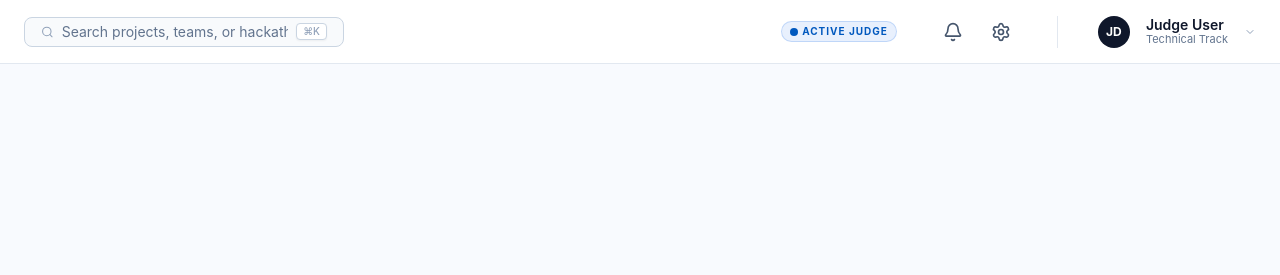
opens notification dropdown on click
Click the button named "Notifications" at (953, 32), box x1=937 y1=16 x2=969 y2=48
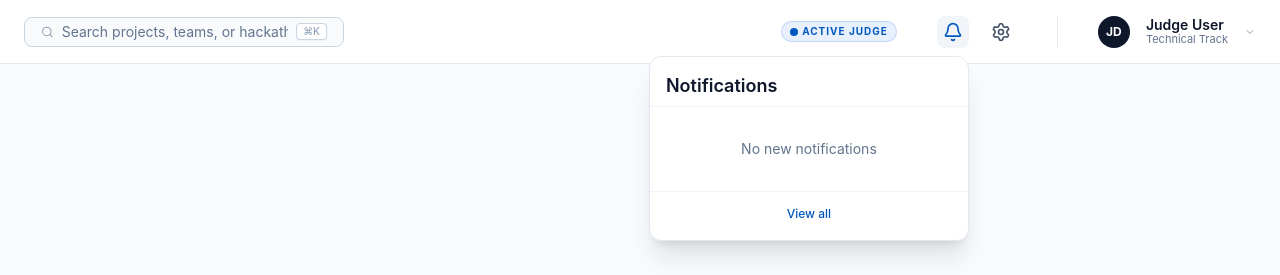
Result: the text "No new notifications" is shown at x1=741 y1=140 x2=877 y2=157
Result: the button "View all" is shown at x1=787 y1=206 x2=831 y2=222
